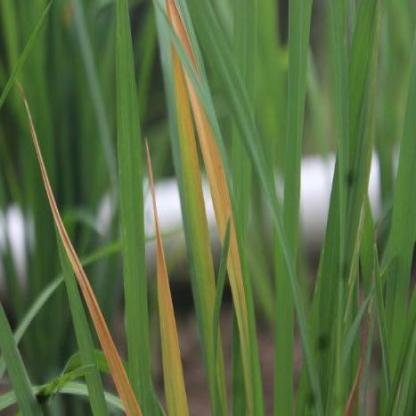Tungro: (25, 100, 142, 416), (171, 2, 257, 416), (174, 47, 233, 416), (148, 151, 190, 416)
